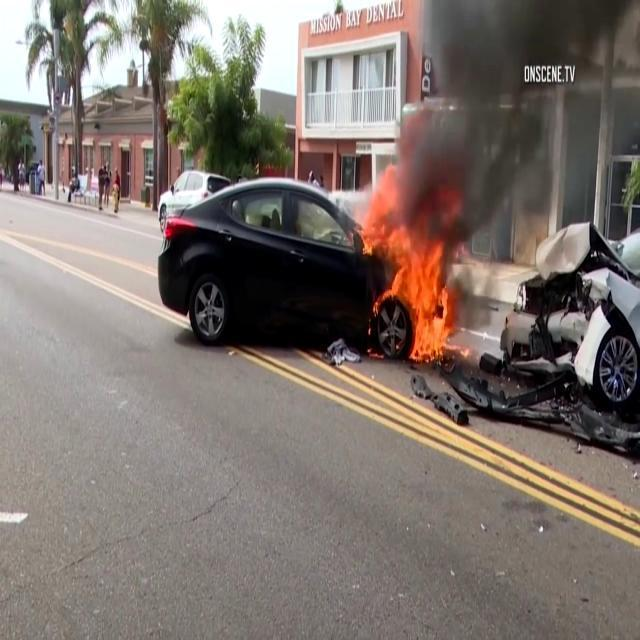Fire: (356, 175, 458, 356)
Smoke: (392, 2, 624, 249)
